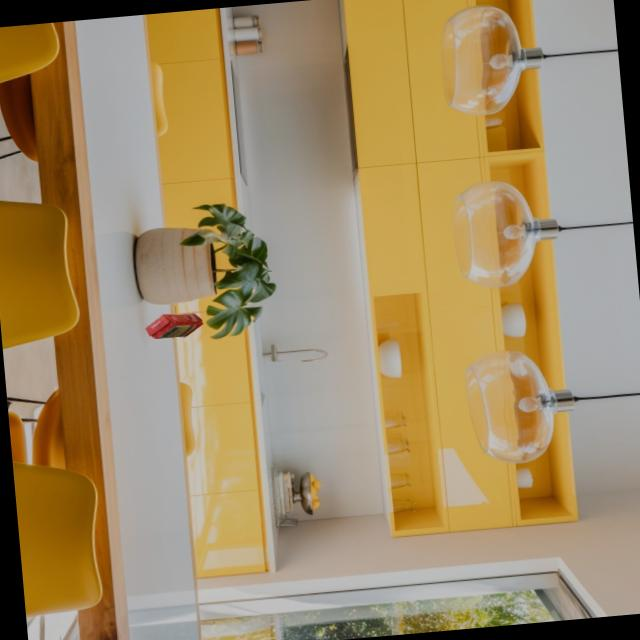mate bag: (142, 312, 206, 340)
